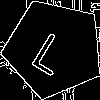L: (28, 23, 77, 77)
